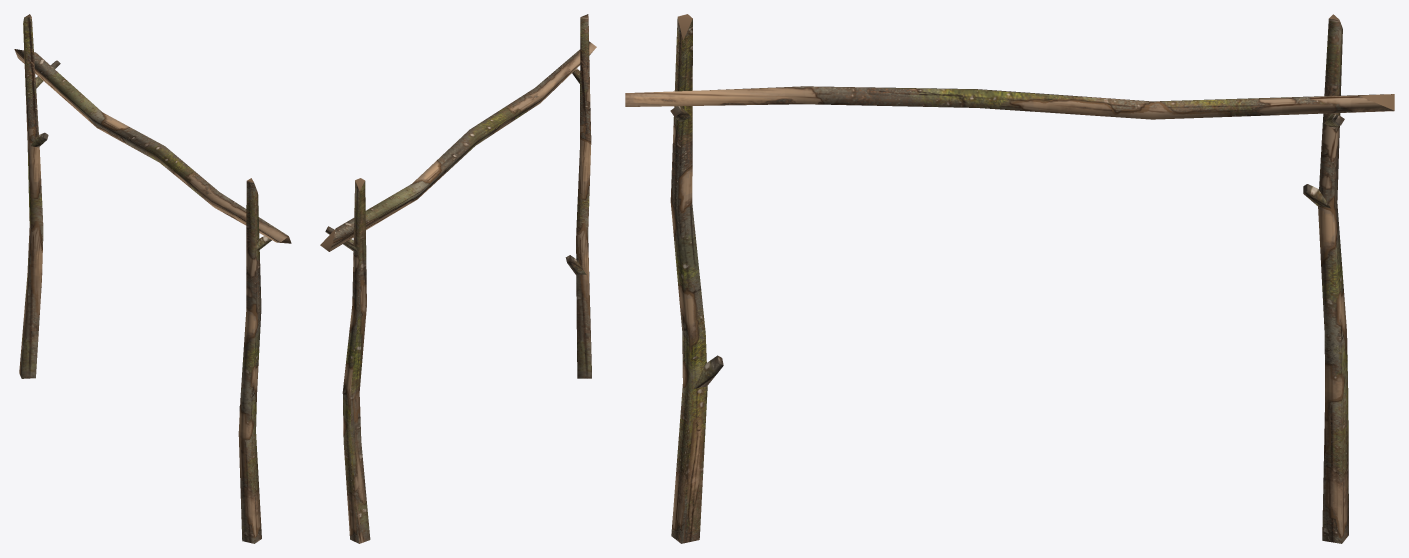
Rendered from trellis01.fbx.
3 views of the same model, side by side, from view 1: azimuth 30°, elevation 25°; view 2: azimuth 150°, elevation 25°; view 3: azimuth 270°, elevation 25° (orthographic). The views are drawn at different scales.
Parts seen in each view (by area): view 1: trellis01; view 2: trellis01; view 3: trellis01.
Boxes of the visible parts, x1=… form: trellis01: x1=14, y1=14, x2=291, y2=543; trellis01: x1=320, y1=14, x2=596, y2=543; trellis01: x1=625, y1=14, x2=1394, y2=543.
Bounding box in the file's own units: 21.54 × 177 × 237.
